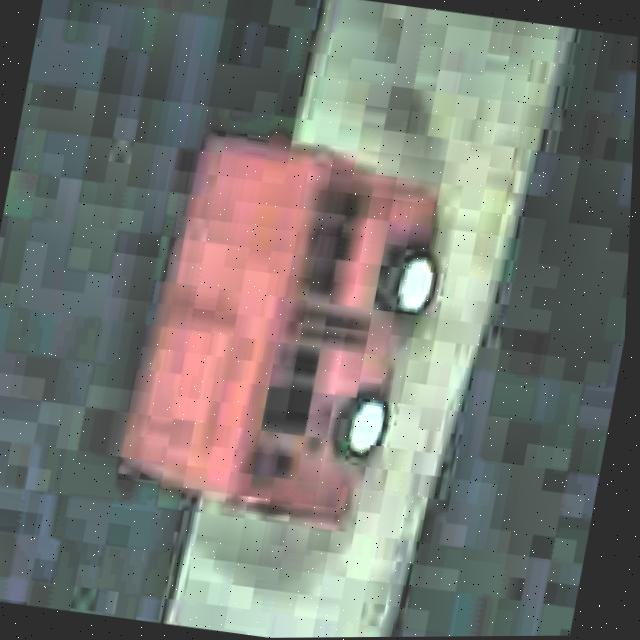bus: (102, 126, 465, 539)
